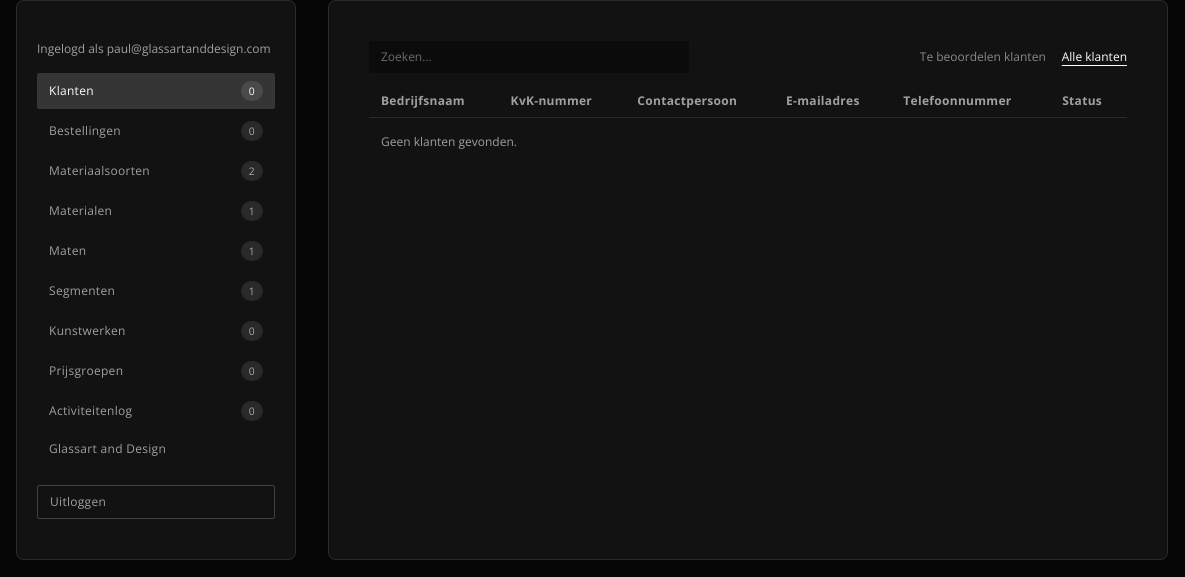
Scenario: BeheerShell › shows the materiaalsoorten count and switches to the Materiaalsoorten section
What coordinates should you click on to do the following:
click the button with test id "beheer-nav-materiaalsoorten"
I would click on:
 (156, 171)
Its box is [37, 153, 275, 189].
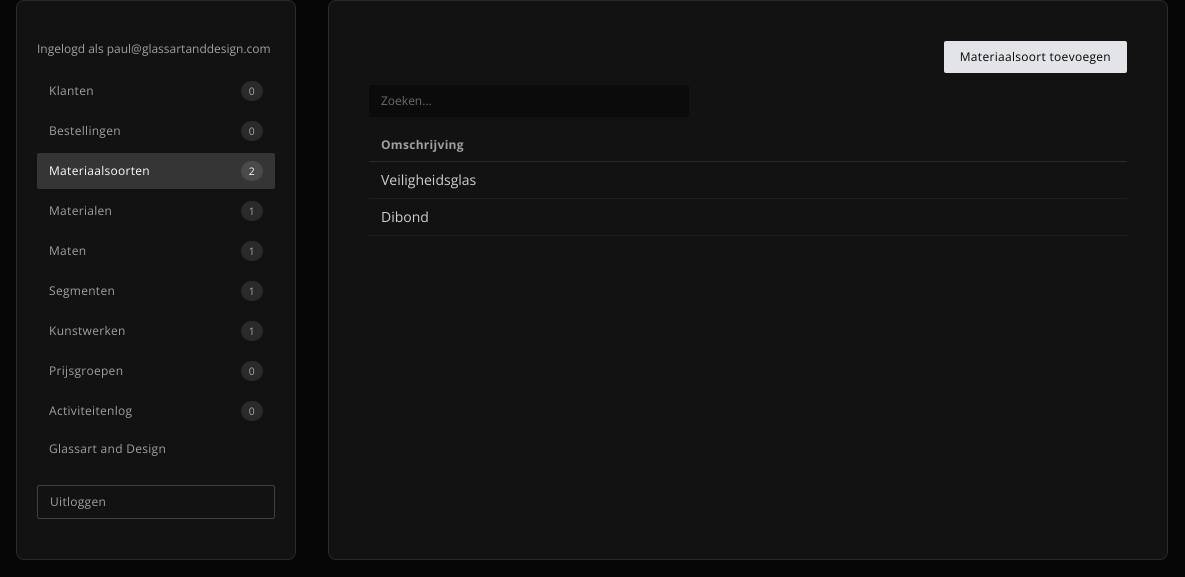
Result: the element with test id "materiaalsoorten-section" is shown at [369, 41, 1127, 236]
Result: the row with test id "data-table-row-soort-1" reads "Veiligheidsglas" at [381, 170, 476, 189]
